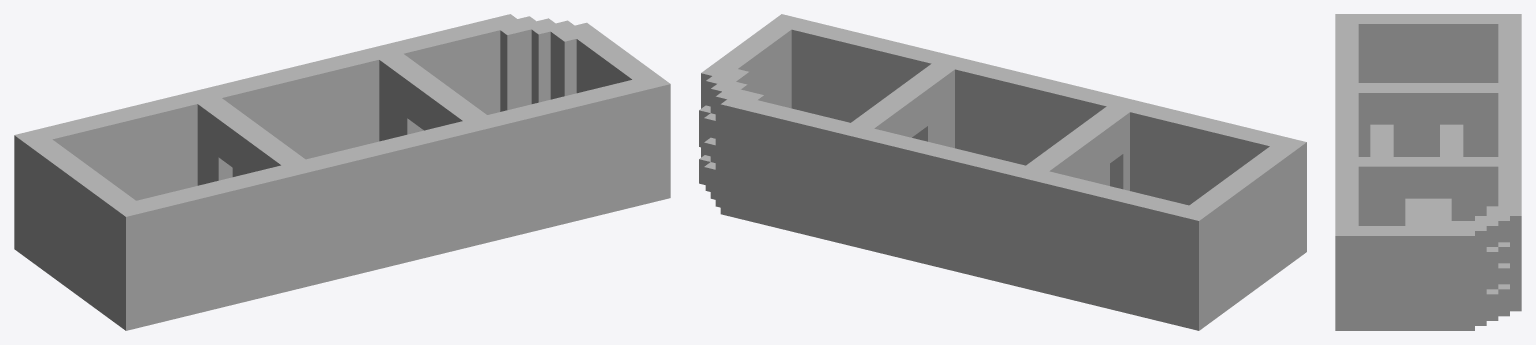
The model's file is test_model_2obj_45x9x16_1_color.obj.
3 renders of one model, left to right at view 1: azimuth 30°, elevation 25°; view 2: azimuth 150°, elevation 25°; view 3: azimuth 270°, elevation 25°, orthographic. The views are drawn at different scales.
Size of the model in its own units: 4.5 by 0.9 by 1.6.
1 material, 1 textured.
